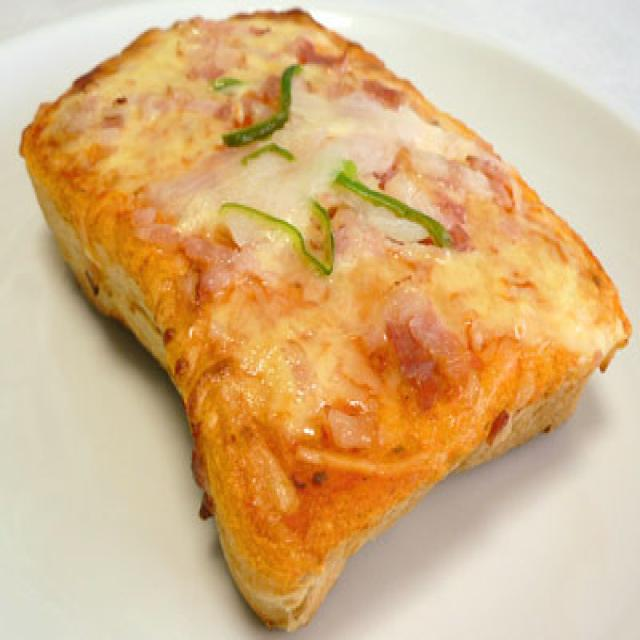面包点心: (2, 2, 620, 625)
